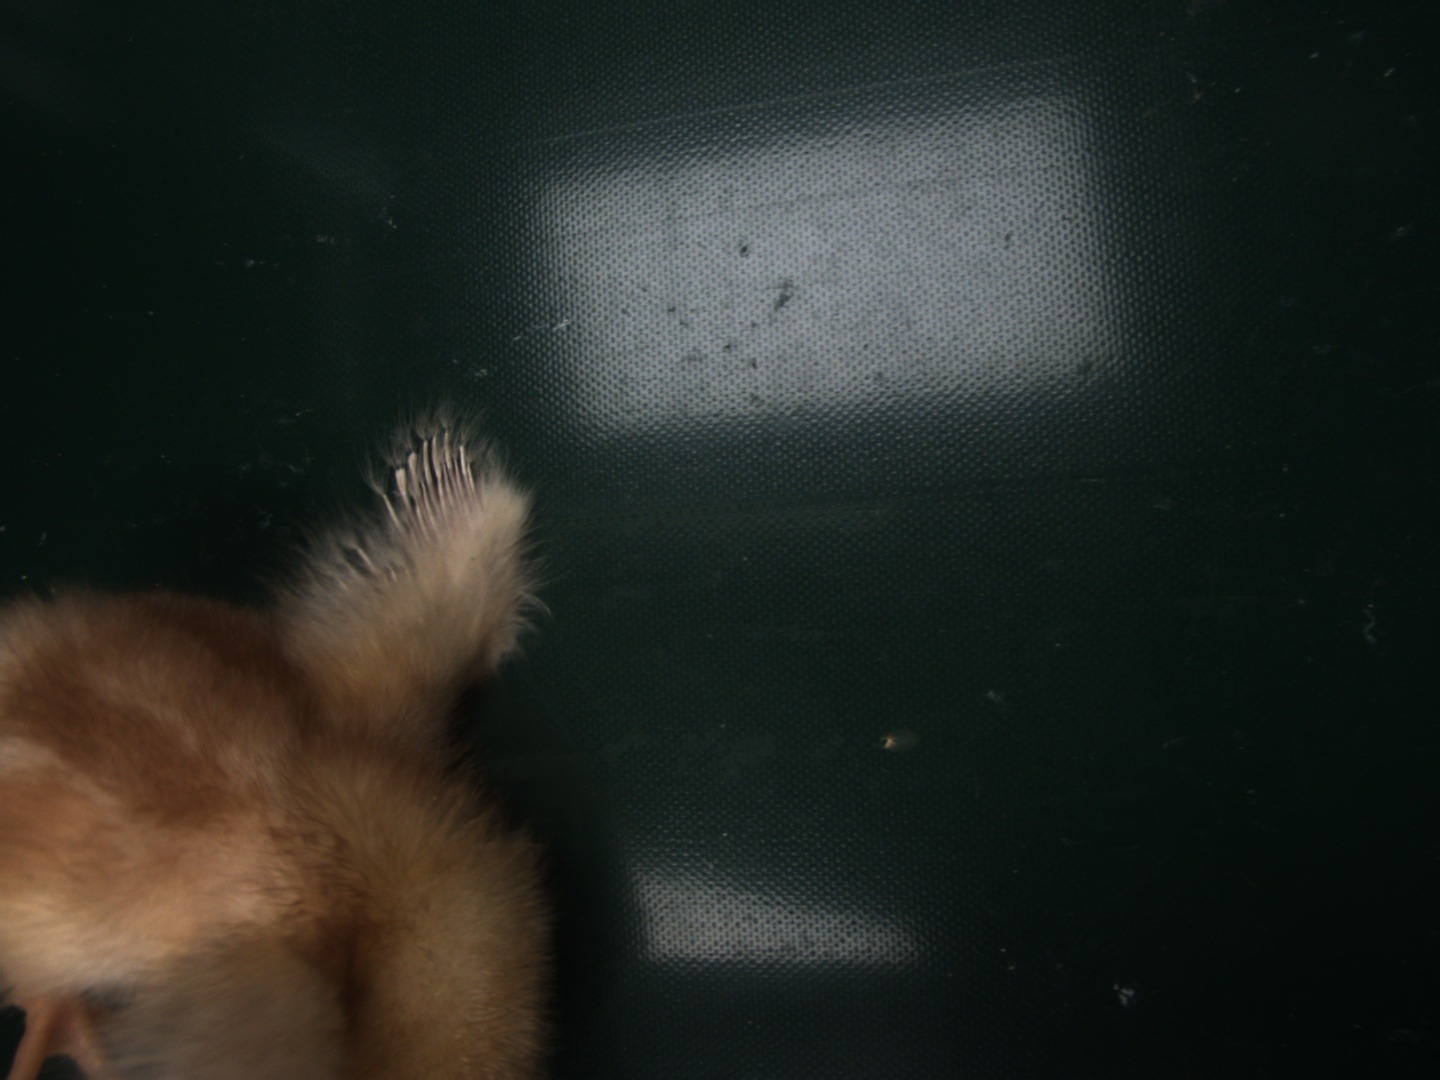female: (376, 432, 482, 541)
